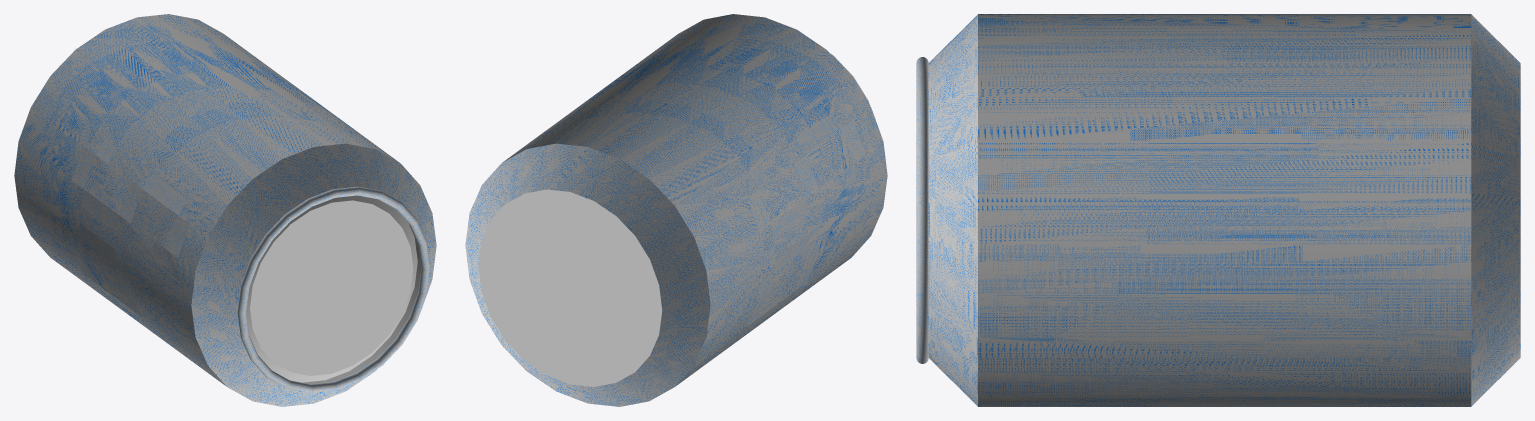
The model's file is model_scale.obj.
3 renders of one model, left to right at view 1: azimuth 30°, elevation 25°; view 2: azimuth 150°, elevation 25°; view 3: azimuth 270°, elevation 25°, orthographic. The views are drawn at different scales.
Parts seen in each view (by area): view 1: mesh1_mesh1-geometry; view 2: mesh1_mesh1-geometry; view 3: mesh1_mesh1-geometry.
Part boxes in pixels (x1=…): mesh1_mesh1-geometry: x1=14, y1=14, x2=436, y2=406; mesh1_mesh1-geometry: x1=465, y1=14, x2=887, y2=406; mesh1_mesh1-geometry: x1=916, y1=14, x2=1520, y2=406.
Size of the model in its own units: 0.0741 by 0.0741 by 0.1134.
